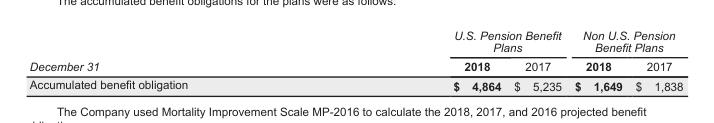table: (28, 28, 682, 92)
table column: (28, 28, 319, 92), (319, 28, 506, 92), (506, 28, 567, 92), (567, 28, 628, 92), (628, 28, 682, 92)
table column header: (28, 28, 682, 75)
table row: (28, 28, 682, 56), (28, 56, 682, 75), (28, 75, 682, 92)
table spanning cell: (28, 28, 319, 75), (319, 28, 567, 56), (567, 28, 682, 56)
